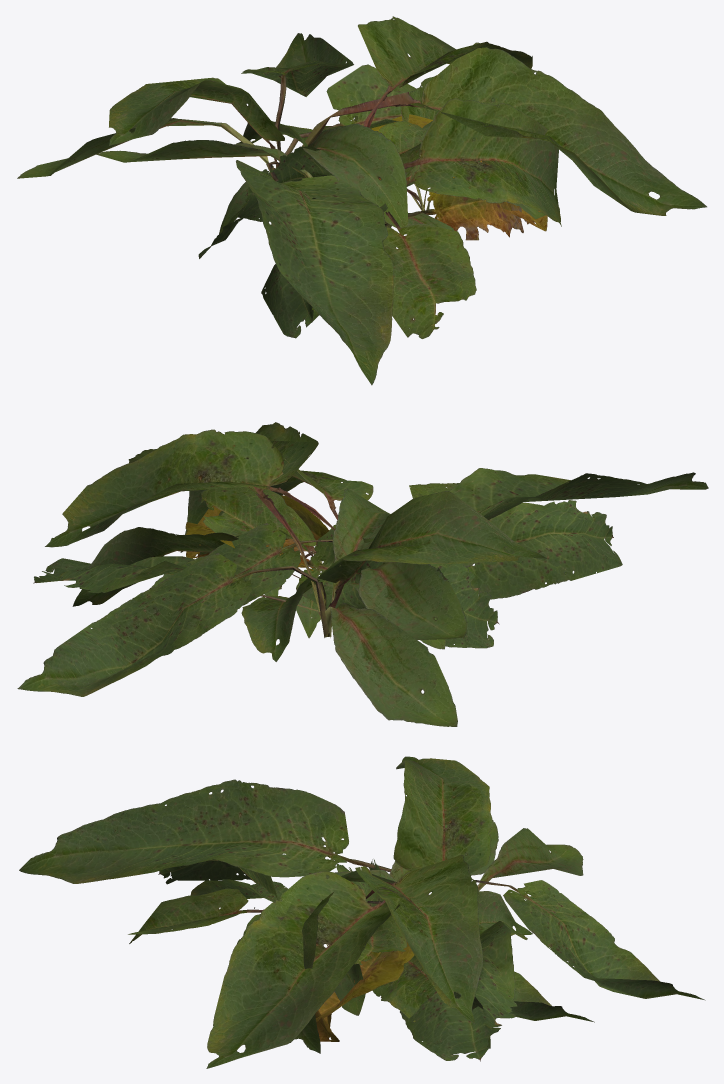
The model's file is bardane.glb.
3 views of the same model, one above another, from view 1: azimuth 30°, elevation 25°; view 2: azimuth 150°, elevation 25°; view 3: azimuth 270°, elevation 25° (orthographic). The views are drawn at different scales.
Visible parts, largest first — view 1: weed_plant_02_a_LOD0, weed_plant_02_b_LOD0, weed_plant_02_c_LOD0, weed_plant_02_e_LOD0, weed_plant_02_d_LOD0; view 2: weed_plant_02_a_LOD0, weed_plant_02_b_LOD0, weed_plant_02_c_LOD0, weed_plant_02_d_LOD0, weed_plant_02_e_LOD0; view 3: weed_plant_02_a_LOD0, weed_plant_02_b_LOD0, weed_plant_02_c_LOD0, weed_plant_02_d_LOD0.
Boxes of the visible parts, x1,y1,x2,y2 form: weed_plant_02_a_LOD0: (17, 33, 706, 385); weed_plant_02_b_LOD0: (96, 16, 534, 338); weed_plant_02_c_LOD0: (219, 98, 561, 327); weed_plant_02_e_LOD0: (238, 146, 545, 221); weed_plant_02_d_LOD0: (198, 75, 480, 263); weed_plant_02_a_LOD0: (17, 422, 708, 726); weed_plant_02_b_LOD0: (45, 429, 622, 639); weed_plant_02_c_LOD0: (180, 458, 566, 661); weed_plant_02_d_LOD0: (72, 511, 499, 648); weed_plant_02_e_LOD0: (254, 524, 447, 608); weed_plant_02_a_LOD0: (19, 756, 705, 1068); weed_plant_02_b_LOD0: (128, 820, 594, 1041); weed_plant_02_c_LOD0: (190, 879, 532, 1053); weed_plant_02_d_LOD0: (334, 864, 490, 1048).
Bounding box in the file's own units: 0.2193 × 0.0724 × 0.2903.
Materials: 1 (1 with a texture image).
